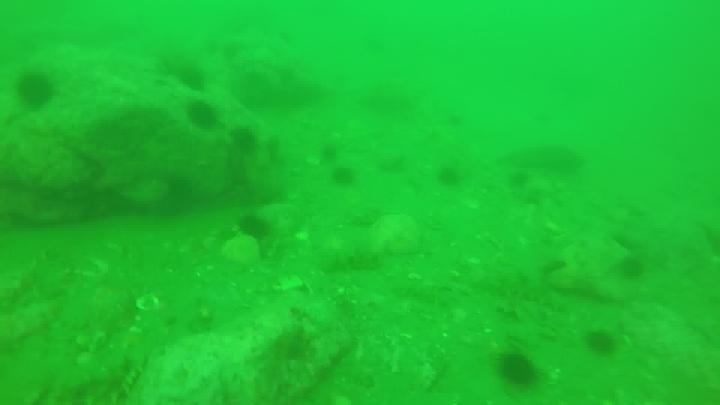echinus: (496, 350, 540, 389), (14, 71, 56, 111), (185, 99, 220, 132), (236, 212, 273, 242), (228, 124, 260, 157), (583, 327, 618, 357), (175, 64, 207, 93), (216, 38, 248, 67), (616, 254, 647, 282), (435, 163, 463, 189), (329, 164, 358, 188), (506, 168, 532, 191), (317, 141, 341, 163), (444, 110, 466, 131)
holothurian: (63, 353, 148, 405), (472, 265, 565, 308), (321, 245, 384, 276)
